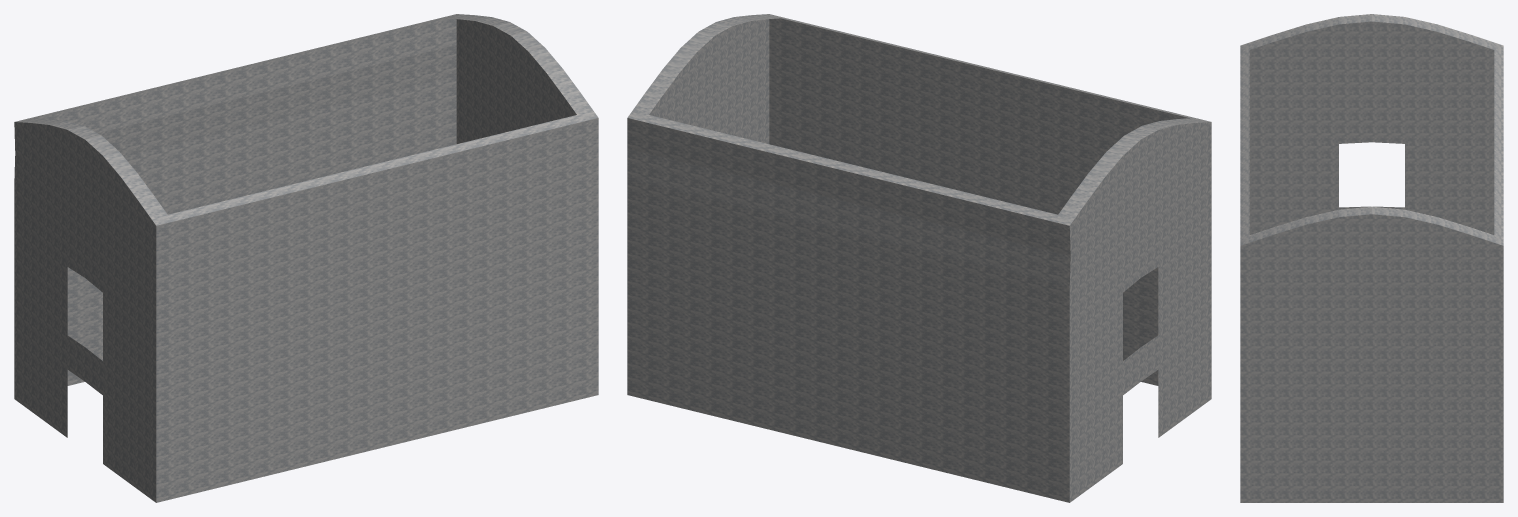
Rendered from Building_Interior.fbx.
3 views of the same model, side by side, from view 1: azimuth 30°, elevation 25°; view 2: azimuth 150°, elevation 25°; view 3: azimuth 270°, elevation 25° (orthographic). The views are drawn at different scales.
Visible parts, largest first — view 1: Building Interior; view 2: Building Interior; view 3: Building Interior.
Boxes of the visible parts, x1,y1,x2,y2 form: Building Interior: [14, 14, 598, 502]; Building Interior: [627, 14, 1211, 502]; Building Interior: [1240, 14, 1503, 502].
Size of the model in its own units: 7122 by 4789 by 3957.
